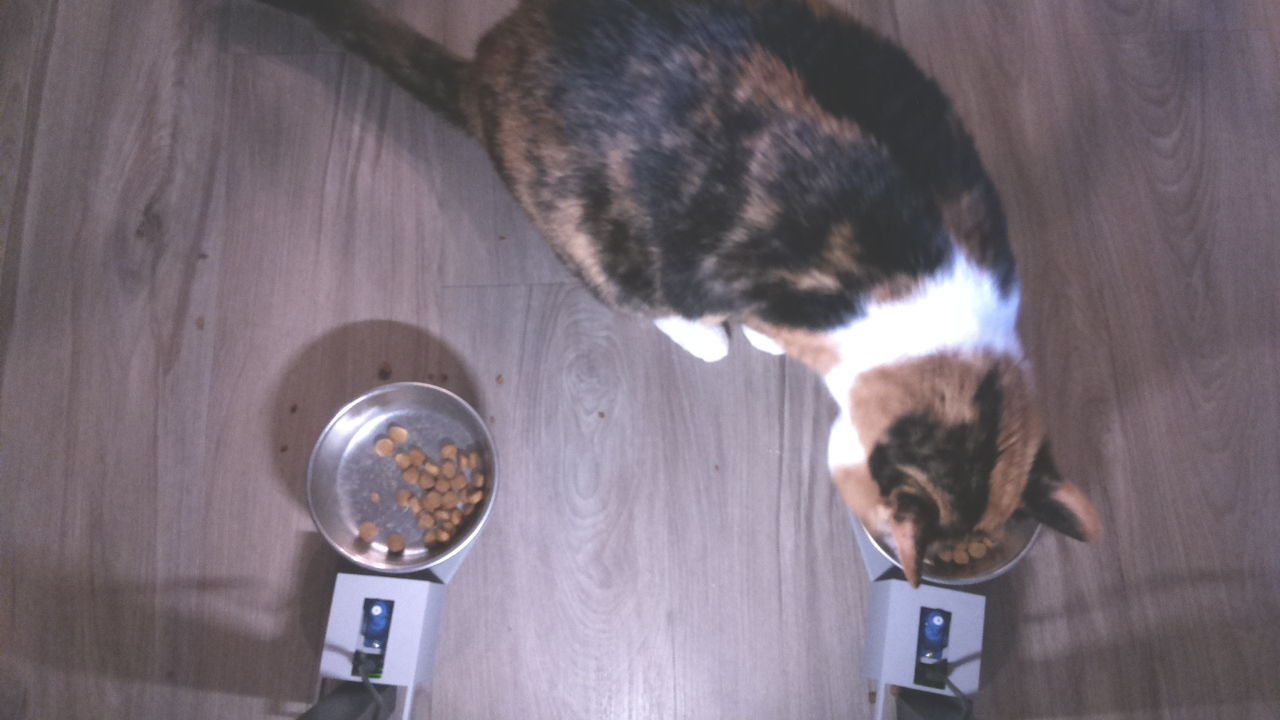bella_eating: (807, 326, 1128, 572)
open_bowl: (293, 375, 512, 585)
